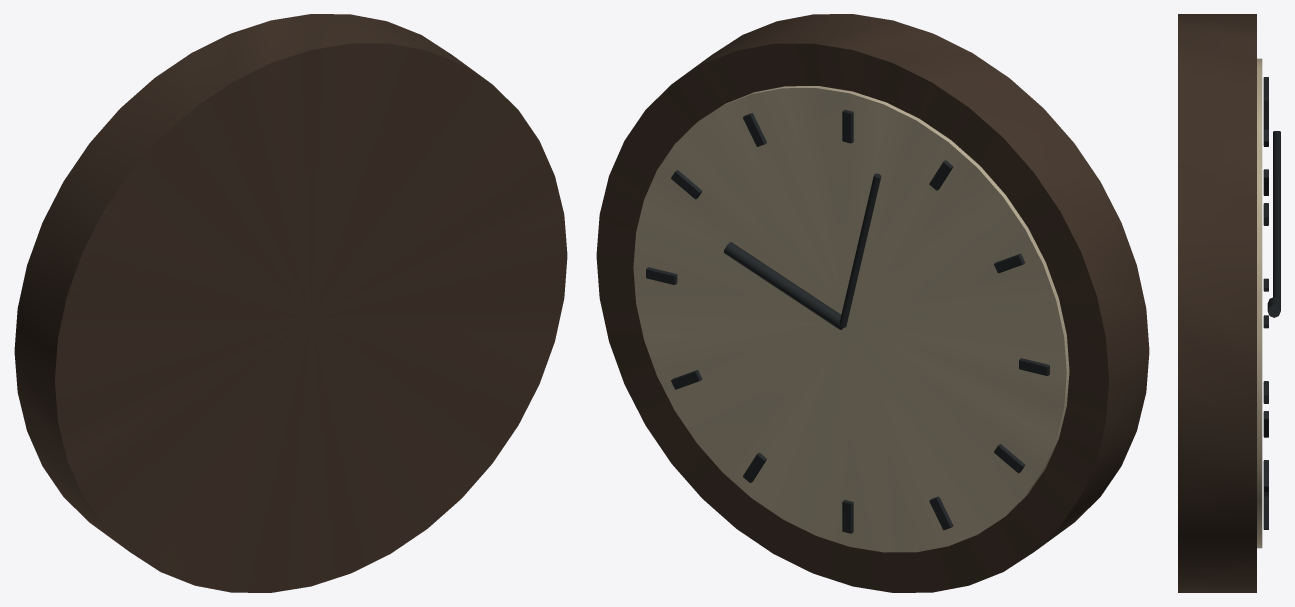
Rendered from prop-wall-clock-v01.glb.
3 views of the same model, side by side, from view 1: azimuth 30°, elevation 25°; view 2: azimuth 150°, elevation 25°; view 3: azimuth 270°, elevation 25° (orthographic). The views are drawn at different scales.
Parts seen in each view (by area): view 1: wall-clock; view 2: wall-clock; view 3: wall-clock.
Part boxes in pixels (<box>): wall-clock: <box>14,14,567,592</box>; wall-clock: <box>596,14,1149,592</box>; wall-clock: <box>1178,14,1280,592</box>.
Size of the model in its own units: 0.44 by 0.44 by 0.078.
